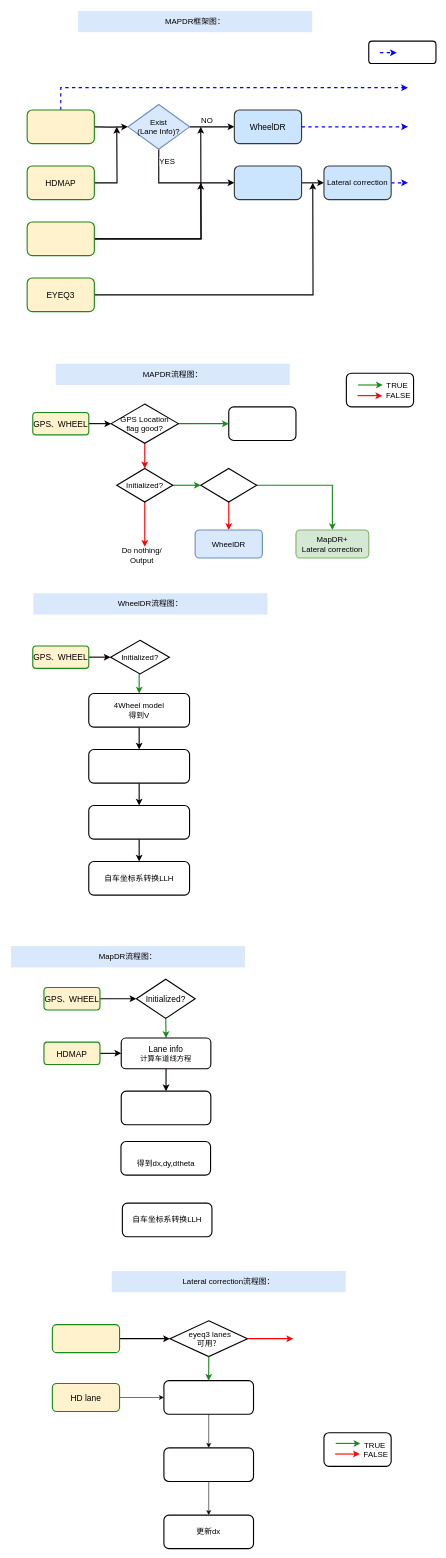
The diagram is 446 pixels wide and 1558 high, and some of its shapes have lost their labels. The shapes that lost their labels are listed below. From the top down, each one's centre as x and y in pixels, then its label:
the point at 402,52: OUTPUT
the point at 60,126: GPS
the point at 268,182: MapDR
the point at 60,238: WHEEL
the point at 262,423: 角度实时补偿 速度实时补偿
the point at 228,485: Exist lane info?
the point at 139,766: 添加角度补偿值 dtheta =yawrate*t+yawbias 添加速度补偿值v=kv+b
the point at 139,822: motion model在自车坐标系 得到dx,dy,dtheta
the point at 165,1107: 4Wheel model得到V 速度补偿V=kv+b
the point at 86,1338: MapDR、EYEQ3
the point at 208,1397: 计算候选点
the point at 208,1464: lane_correction模块纠正
